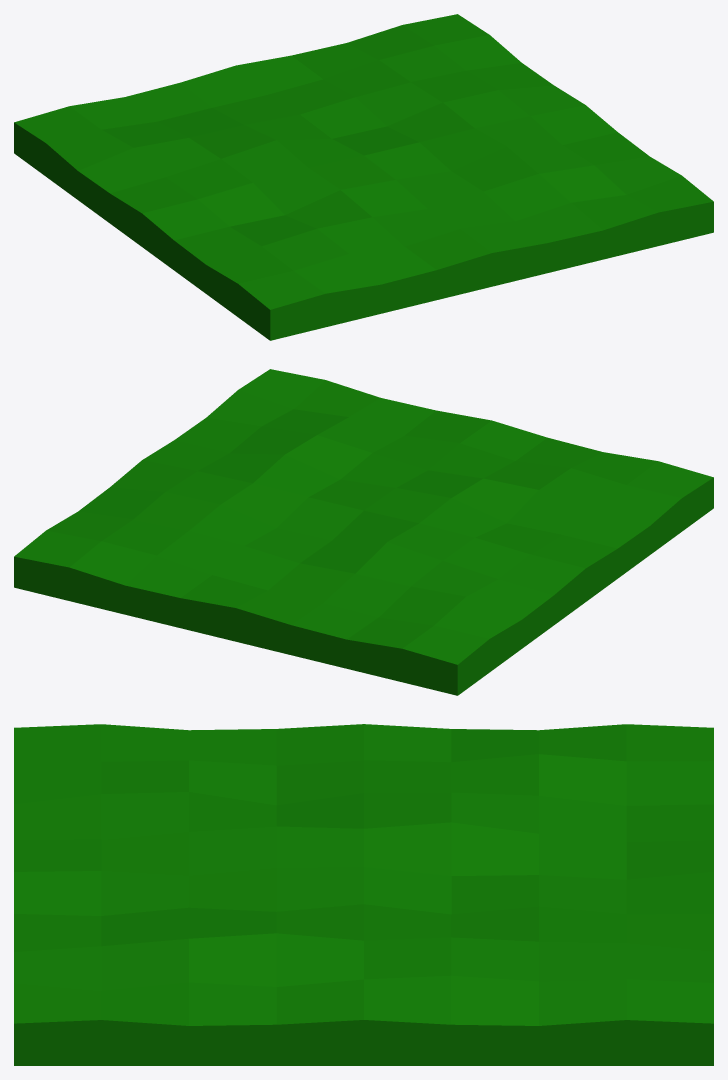
Rendered from BaseTile.fbx.
3 views of the same model, one above another, from view 1: azimuth 30°, elevation 25°; view 2: azimuth 150°, elevation 25°; view 3: azimuth 270°, elevation 25° (orthographic). The views are drawn at different scales.
Parts seen in each view (by area): view 1: Cube; view 2: Cube; view 3: Cube.
Part boxes in pixels (x1,y1,x2,y2): Cube: (14, 14, 713, 340); Cube: (14, 369, 713, 695); Cube: (14, 724, 713, 1065).
Bounding box in the file's own units: 200 × 18.49 × 200.
